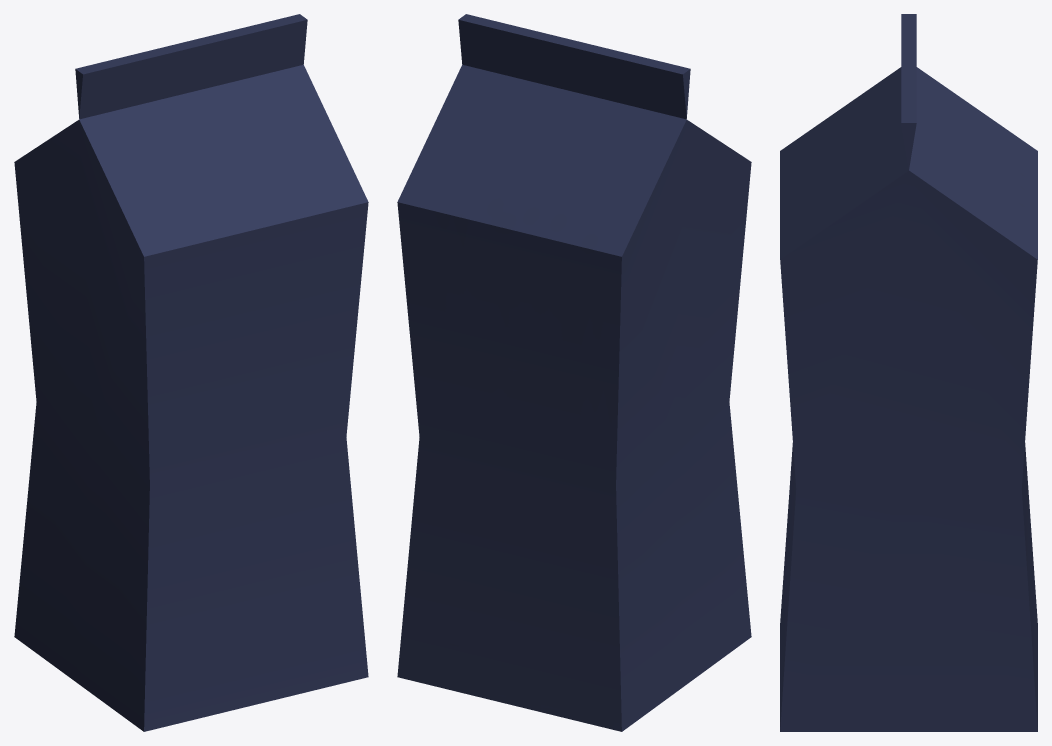
Rendered from prop_GarbageMilk01.fbx.
The picture shows the model from 3 angles, left to right: view 1: azimuth 30°, elevation 25°; view 2: azimuth 150°, elevation 25°; view 3: azimuth 270°, elevation 25°; orthographic projection.
Parts seen in each view (by area): view 1: prop_Milk02; view 2: prop_Milk02; view 3: prop_Milk02.
Boxes of the visible parts, <box> form: prop_Milk02: <box>14,14,368,731</box>; prop_Milk02: <box>397,14,751,731</box>; prop_Milk02: <box>780,14,1037,731</box>.
Bounding box in the file's own units: 23.92 × 62.38 × 23.92.
